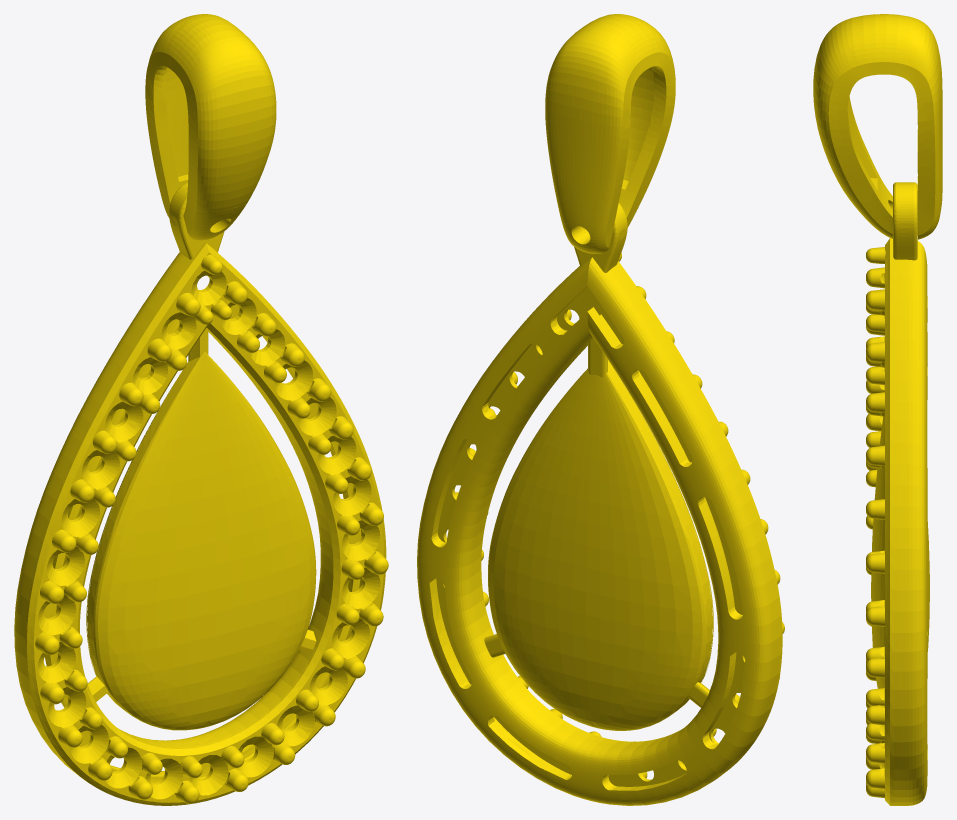
3 views of the same model, side by side, from view 1: azimuth 30°, elevation 25°; view 2: azimuth 150°, elevation 25°; view 3: azimuth 270°, elevation 25° (orthographic).
Visible parts, largest first — view 1: P246_body.obj; view 2: P246_body.obj; view 3: P246_body.obj.
Part boxes in pixels (x1=…): P246_body.obj: x1=14, y1=14, x2=388, y2=805; P246_body.obj: x1=417, y1=14, x2=784, y2=805; P246_body.obj: x1=813, y1=14, x2=942, y2=805.
Size of the model in its own units: 11.62 by 24.11 by 3.68.
